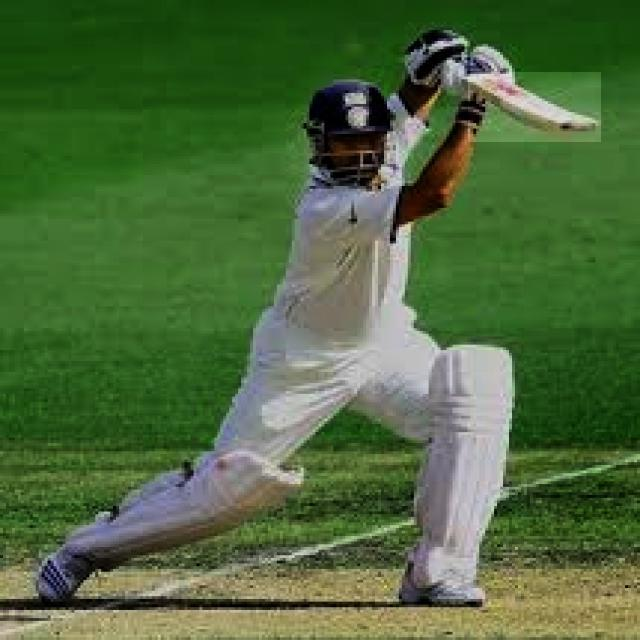bat: (470, 70, 605, 141)
toe: (552, 113, 606, 136)
